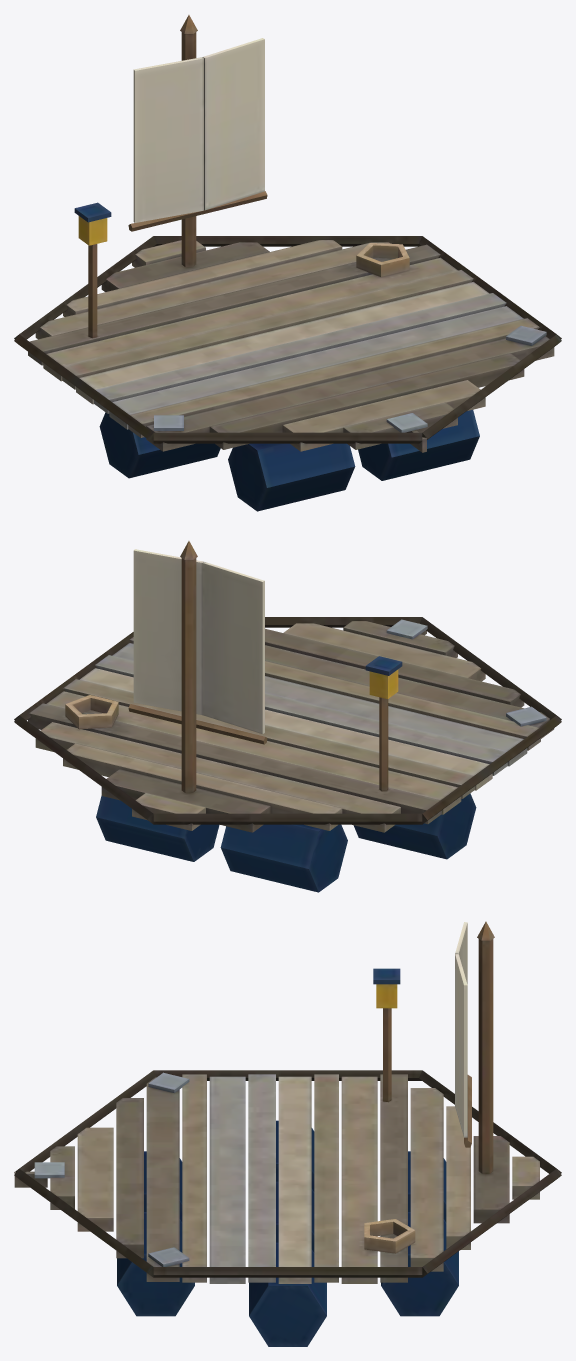
File: raft-a-age10-lite.glb
The picture shows the model from 3 angles, top to bottom: view 1: azimuth 30°, elevation 25°; view 2: azimuth 150°, elevation 25°; view 3: azimuth 270°, elevation 25°; orthographic projection.
Visible parts, largest first — view 1: raft-a-age10-lite; view 2: raft-a-age10-lite; view 3: raft-a-age10-lite.
Boxes of the visible parts, x1,y1,x2,y2 form: raft-a-age10-lite: (14, 15, 561, 511); raft-a-age10-lite: (14, 541, 561, 892); raft-a-age10-lite: (14, 921, 561, 1346).
Size of the model in its own units: 1.59 by 1.26 by 1.83.
1 material, 1 textured.
